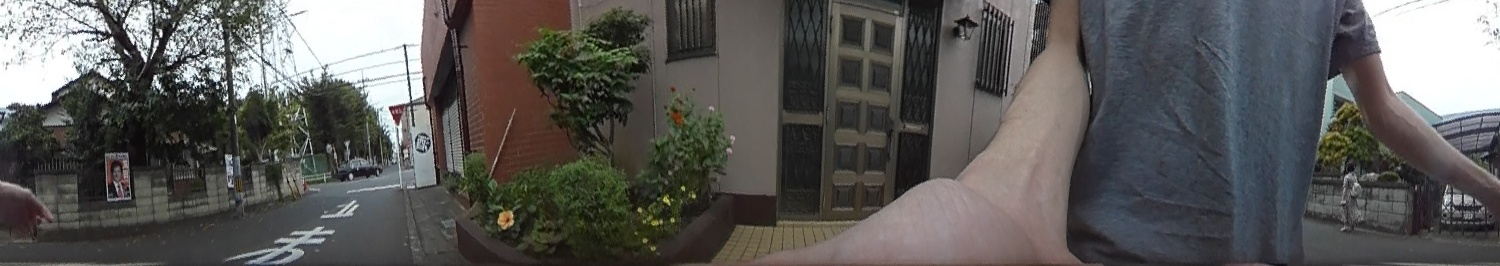person: (1340, 159, 1363, 234)
